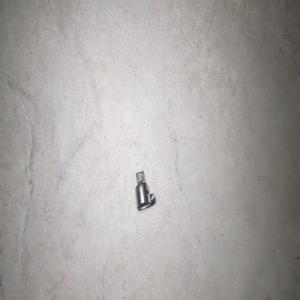MetalPart: (134, 170, 155, 210)
